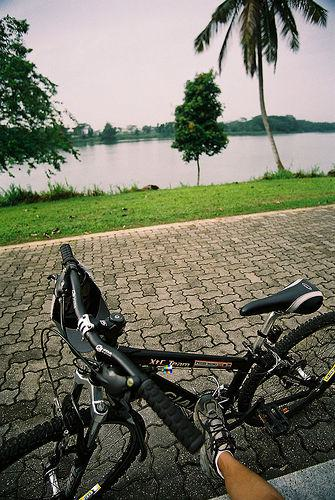car: (1, 241, 335, 497)
person: (195, 394, 286, 500)
